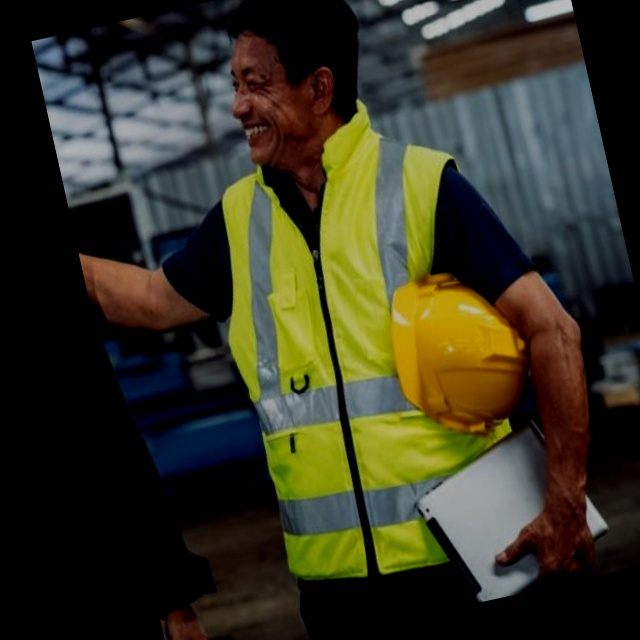Con_Chaleco: (196, 123, 538, 601)
Sin_Casco_Mascarrilla: (217, 0, 381, 169)
